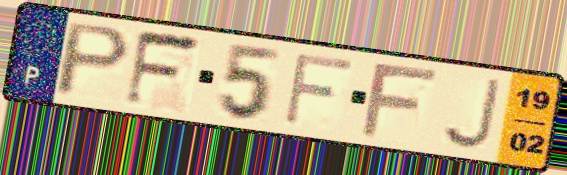5: (217, 40, 284, 122)
F: (120, 28, 205, 110), (356, 62, 443, 140), (280, 49, 358, 128)
J: (438, 76, 505, 151)
P: (50, 19, 136, 99)
